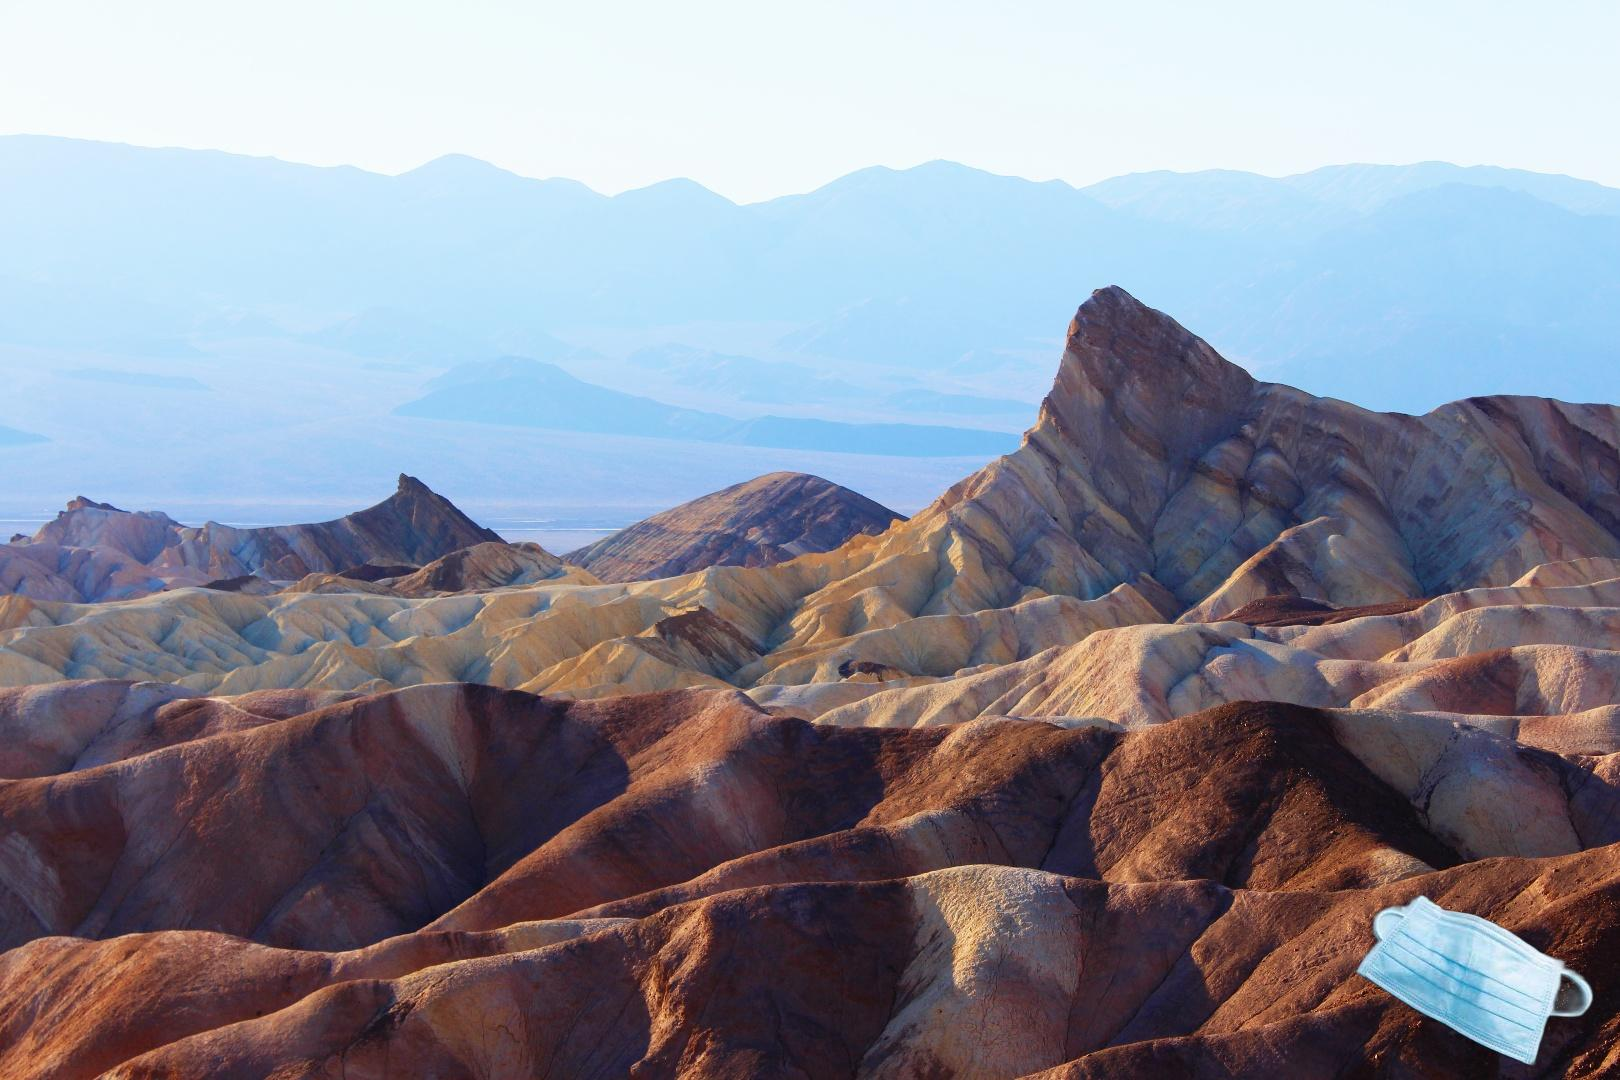trash: (1352, 890, 1596, 1069)
